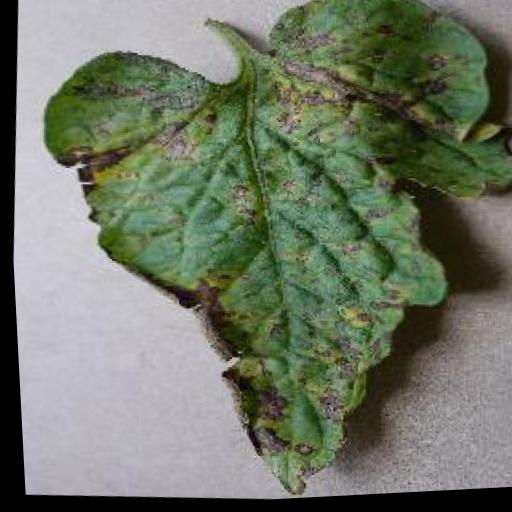Early Blight: (11, 0, 512, 512)
